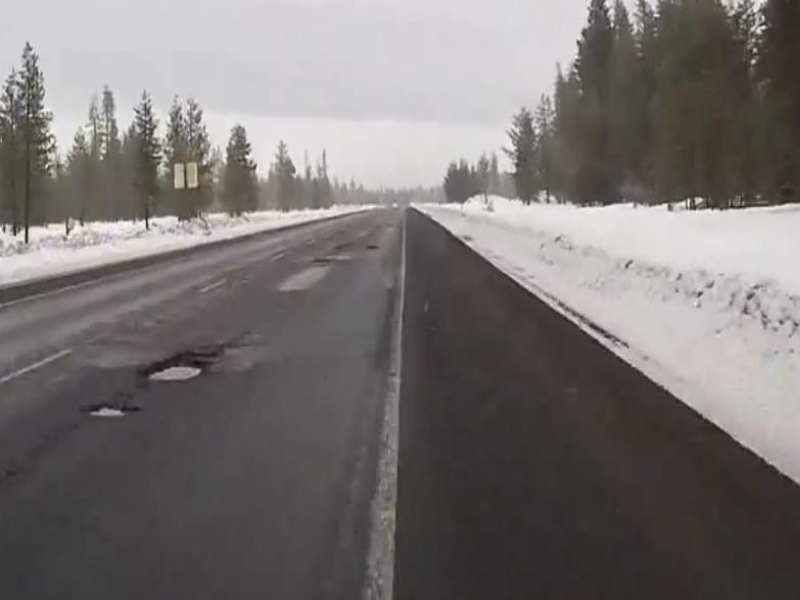pothole: (138, 361, 206, 383), (79, 400, 137, 423)
